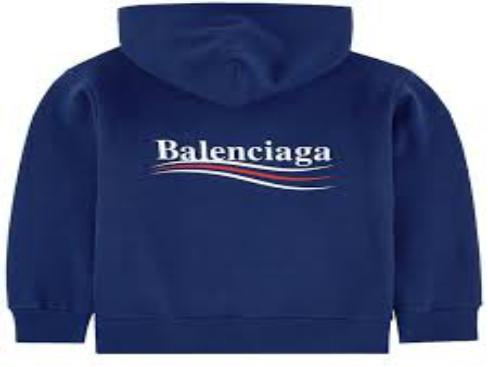BALENCIAGA: (158, 137, 340, 190)
